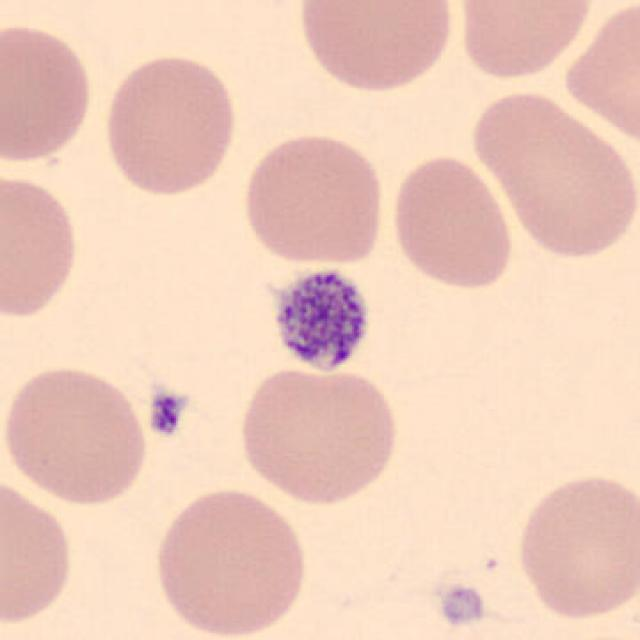Platelets: (263, 263, 375, 377), (144, 384, 190, 441), (436, 580, 487, 629)
RBC: (466, 85, 638, 262), (149, 483, 311, 640), (233, 361, 403, 508), (0, 360, 153, 508), (98, 48, 242, 199), (236, 129, 388, 268), (510, 469, 638, 624), (386, 150, 517, 293), (293, 0, 459, 97), (0, 18, 98, 168), (0, 168, 84, 322), (0, 473, 78, 631), (453, 0, 598, 83), (558, 0, 638, 148)
